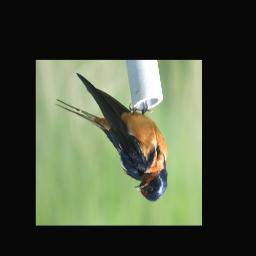Swallow: (55, 75, 169, 204)
